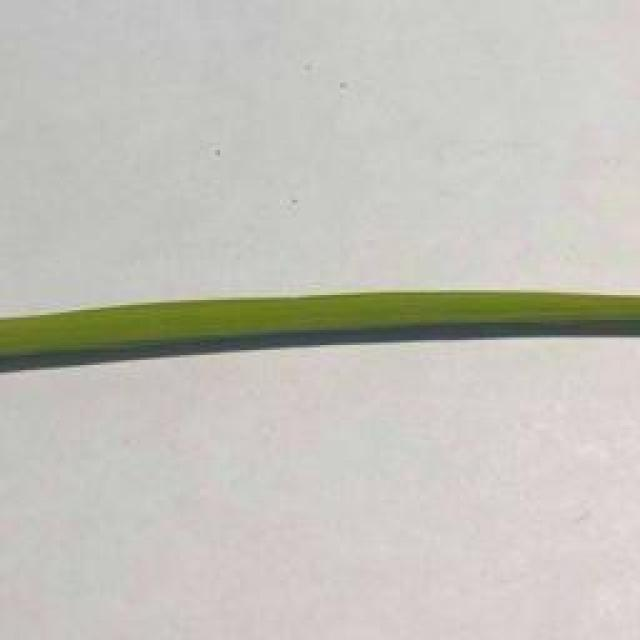Healthy-Plant: (0, 280, 640, 384)
